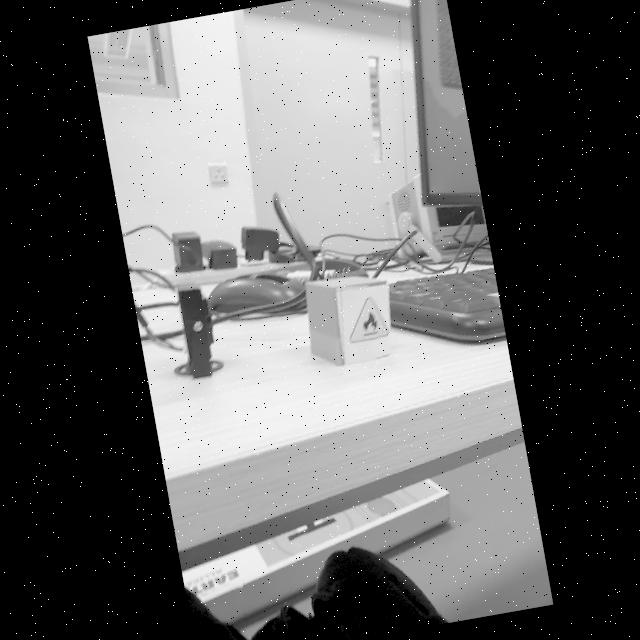Fire: (350, 297, 388, 342)
